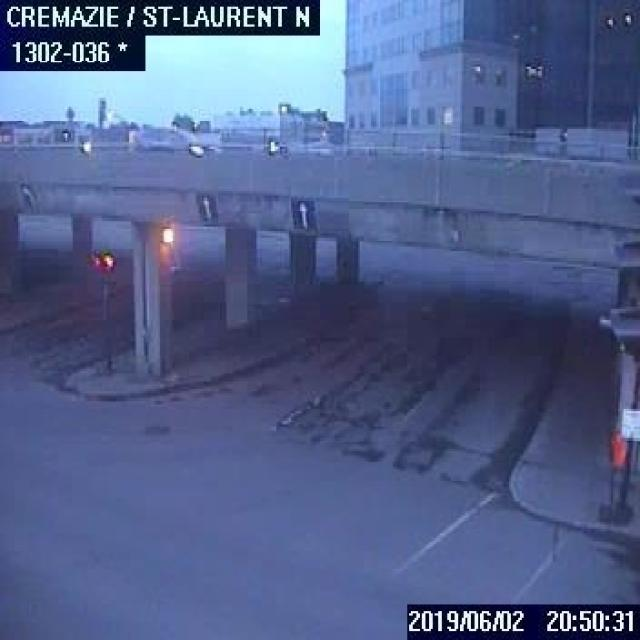vehicle: (133, 124, 220, 154)
